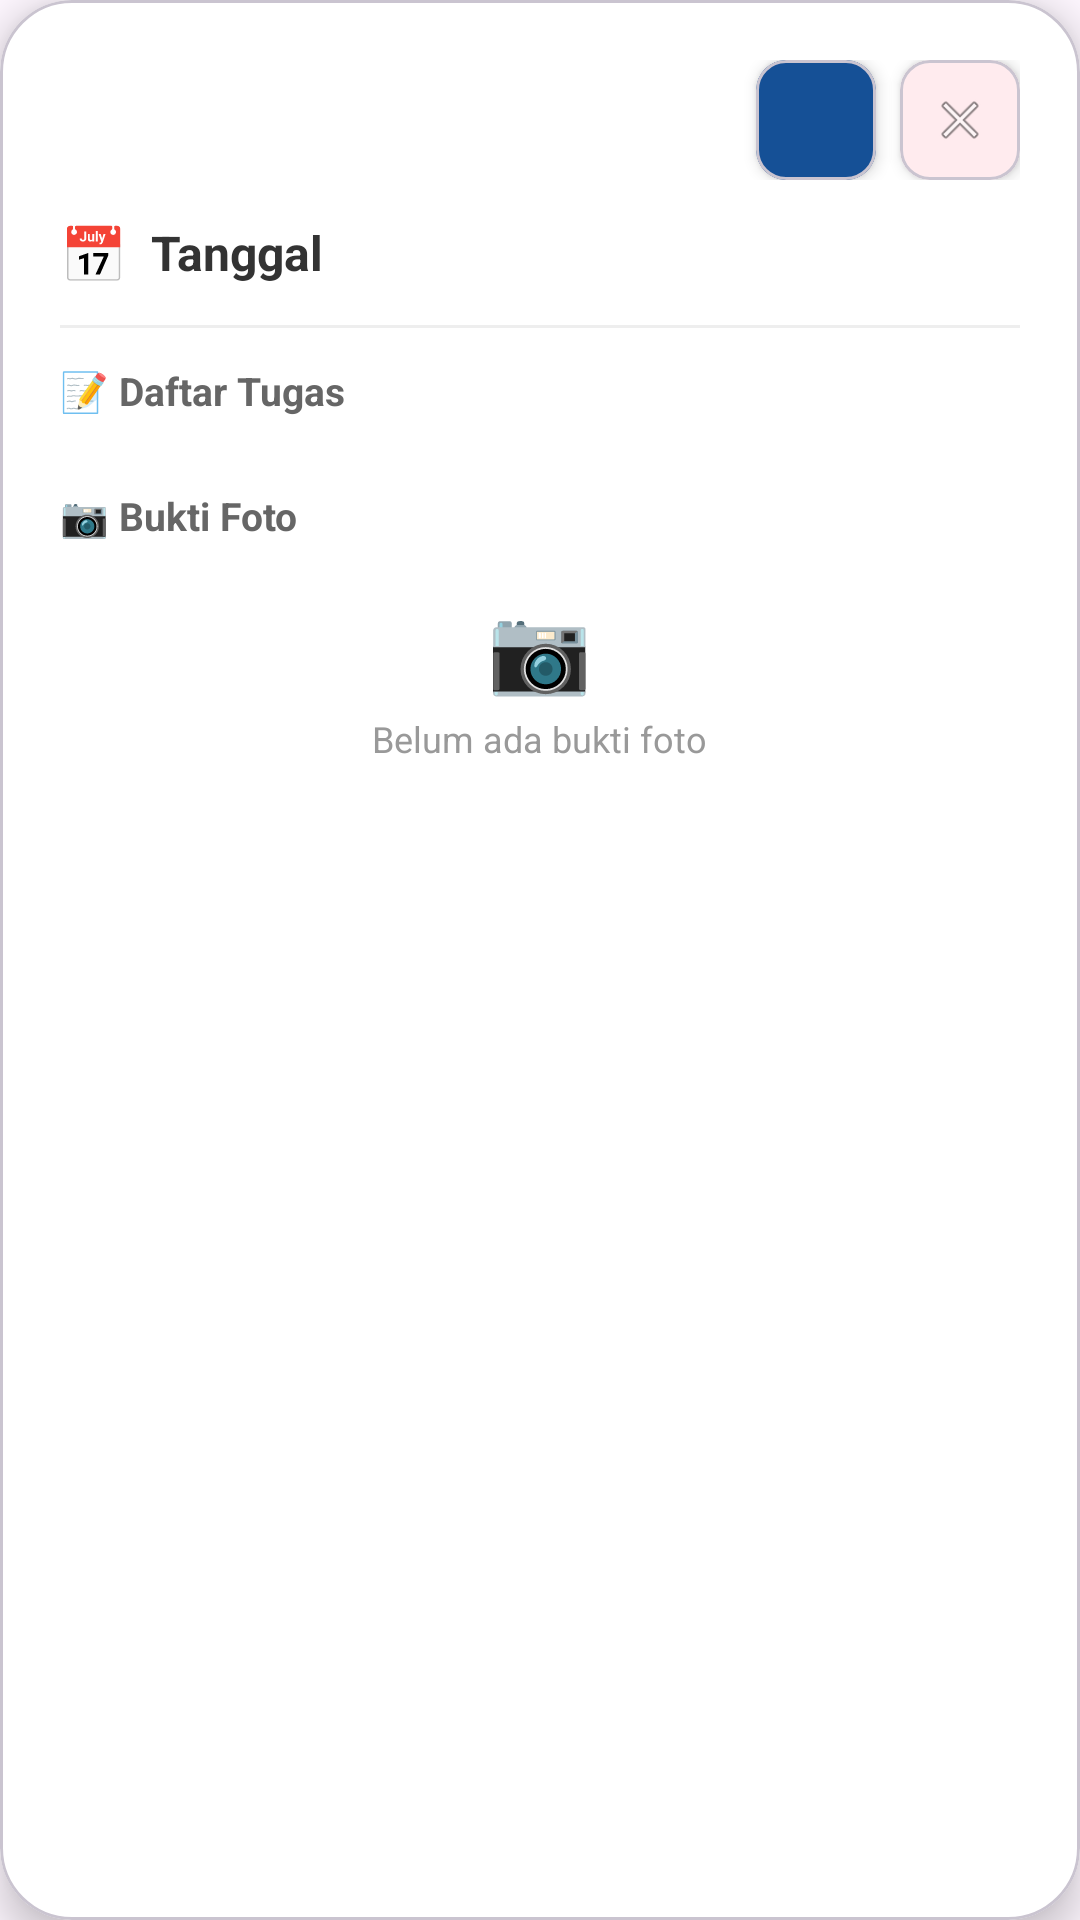

Named icons in this screenshot (1080*1920) and their bounding boxes, (left=x1, top=y1, right=x2, bottom=y2):
close clear cancel: (left=941, top=101, right=979, bottom=139)
